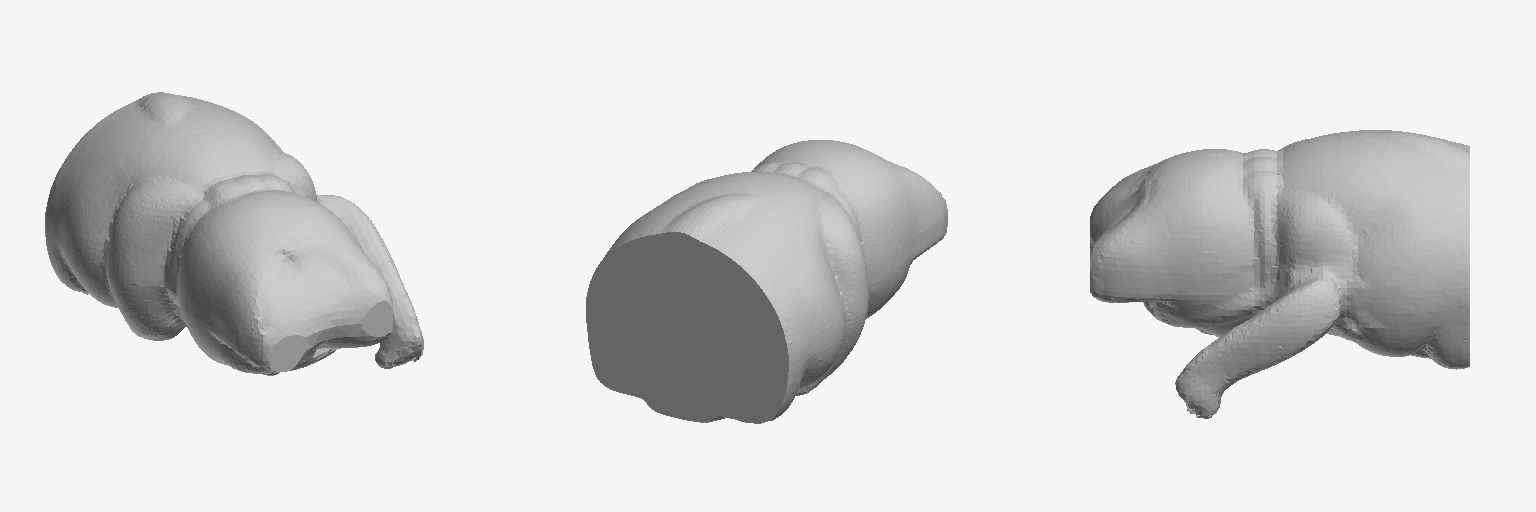
The model's file is 313444-neko_Clustering_90pct.obj.
The picture shows the model from 3 angles: view 1: azimuth 30°, elevation 25°; view 2: azimuth 150°, elevation 25°; view 3: azimuth 270°, elevation 25°; orthographic projection.
Bounding box in the file's own units: 0.7587 × 0.6312 × 1.